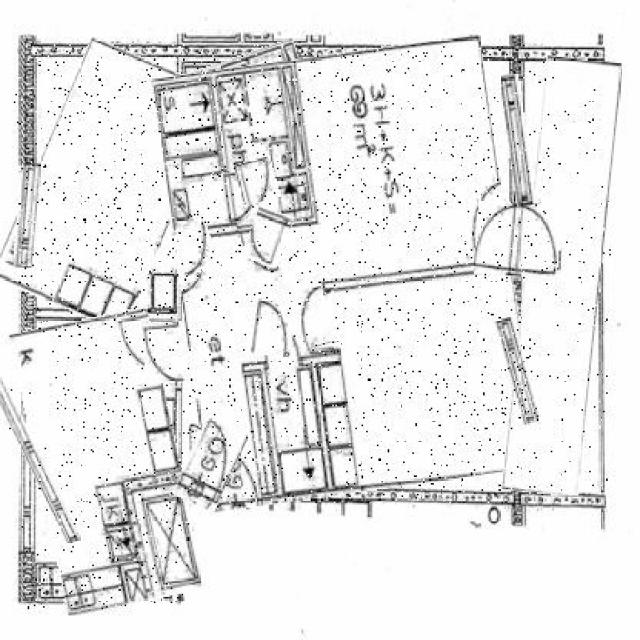door: (477, 201, 560, 277), (180, 418, 240, 511), (143, 320, 186, 383), (246, 208, 289, 266), (295, 289, 334, 351), (252, 300, 294, 357), (174, 224, 215, 274), (237, 159, 277, 203)
window: (0, 342, 57, 548), (505, 74, 532, 206), (503, 317, 532, 425), (17, 163, 38, 268)
zone: (166, 45, 525, 503), (14, 45, 200, 323), (23, 312, 191, 610), (514, 57, 611, 495), (172, 48, 332, 226)
